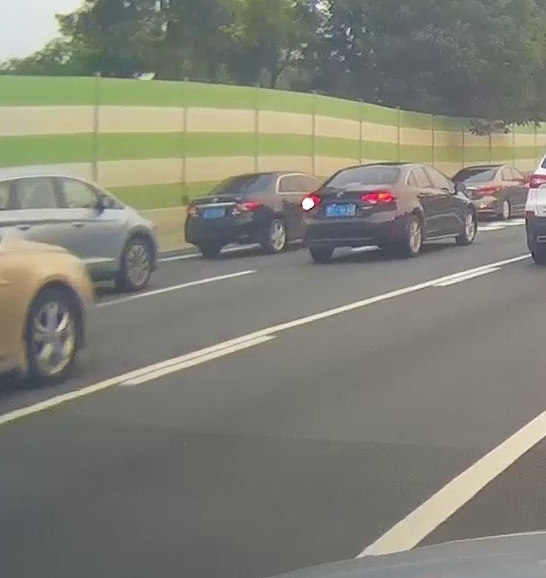L_light: (302, 196, 321, 211), (187, 206, 201, 217)
R_light: (361, 192, 394, 205), (232, 200, 259, 215)
T_light: (346, 182, 363, 186), (243, 176, 256, 181)
day-left: (302, 162, 401, 262)
day-no: (184, 172, 274, 258)
